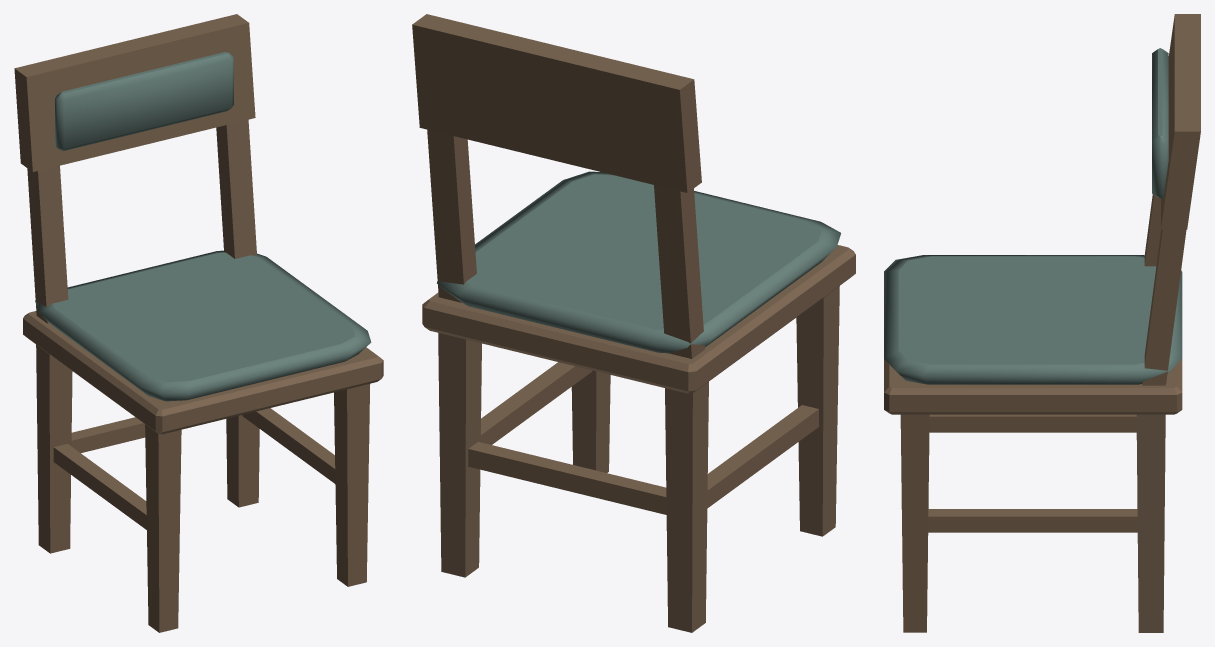
The model's file is Motel_Chair.fbx.
3 renders of one model, left to right at view 1: azimuth 30°, elevation 25°; view 2: azimuth 150°, elevation 25°; view 3: azimuth 270°, elevation 25°, orthographic. The views are drawn at different scales.
Parts seen in each view (by area): view 1: Motel_Chair; view 2: Motel_Chair; view 3: Motel_Chair.
Boxes of the visible parts, x1=… form: Motel_Chair: x1=14, y1=14, x2=383, y2=632; Motel_Chair: x1=412, y1=14, x2=855, y2=632; Motel_Chair: x1=884, y1=14, x2=1200, y2=632.
Bounding box in the file's own units: 0.435 × 0.85 × 0.4835.
